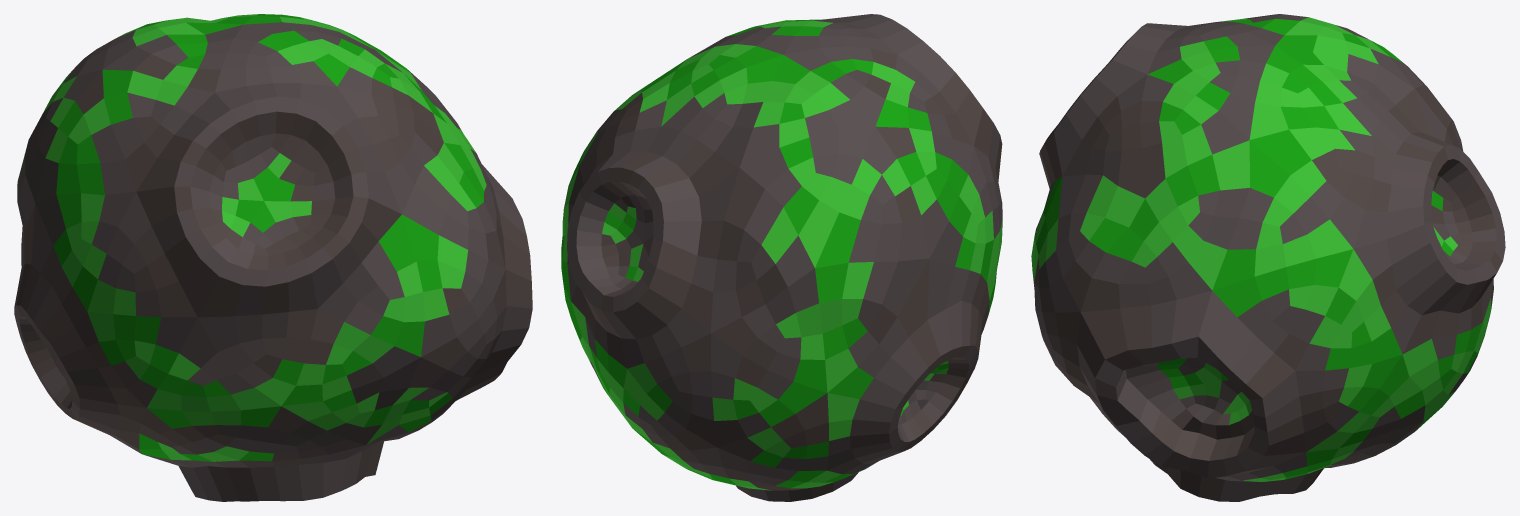
The model's file is AsteroidWIthMaterial.fbx.
3 renders of one model, left to right at view 1: azimuth 30°, elevation 25°; view 2: azimuth 150°, elevation 25°; view 3: azimuth 270°, elevation 25°, orthographic. The views are drawn at different scales.
Parts seen in each view (by area): view 1: Icosphere; view 2: Icosphere; view 3: Icosphere.
Part boxes in pixels (<box>): Icosphere: <box>14,14,532,501</box>; Icosphere: <box>561,14,1002,501</box>; Icosphere: <box>1031,14,1505,501</box>.
Bounding box in the file's own units: 413 × 415 × 410.
